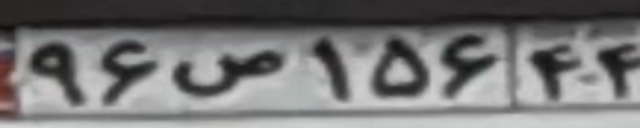1: (314, 38, 351, 100)
4: (531, 44, 582, 99), (595, 43, 633, 98)
5: (370, 38, 427, 96)
6: (97, 38, 158, 106), (437, 35, 501, 99)
9: (28, 40, 85, 104)
saat: (172, 48, 284, 95)
